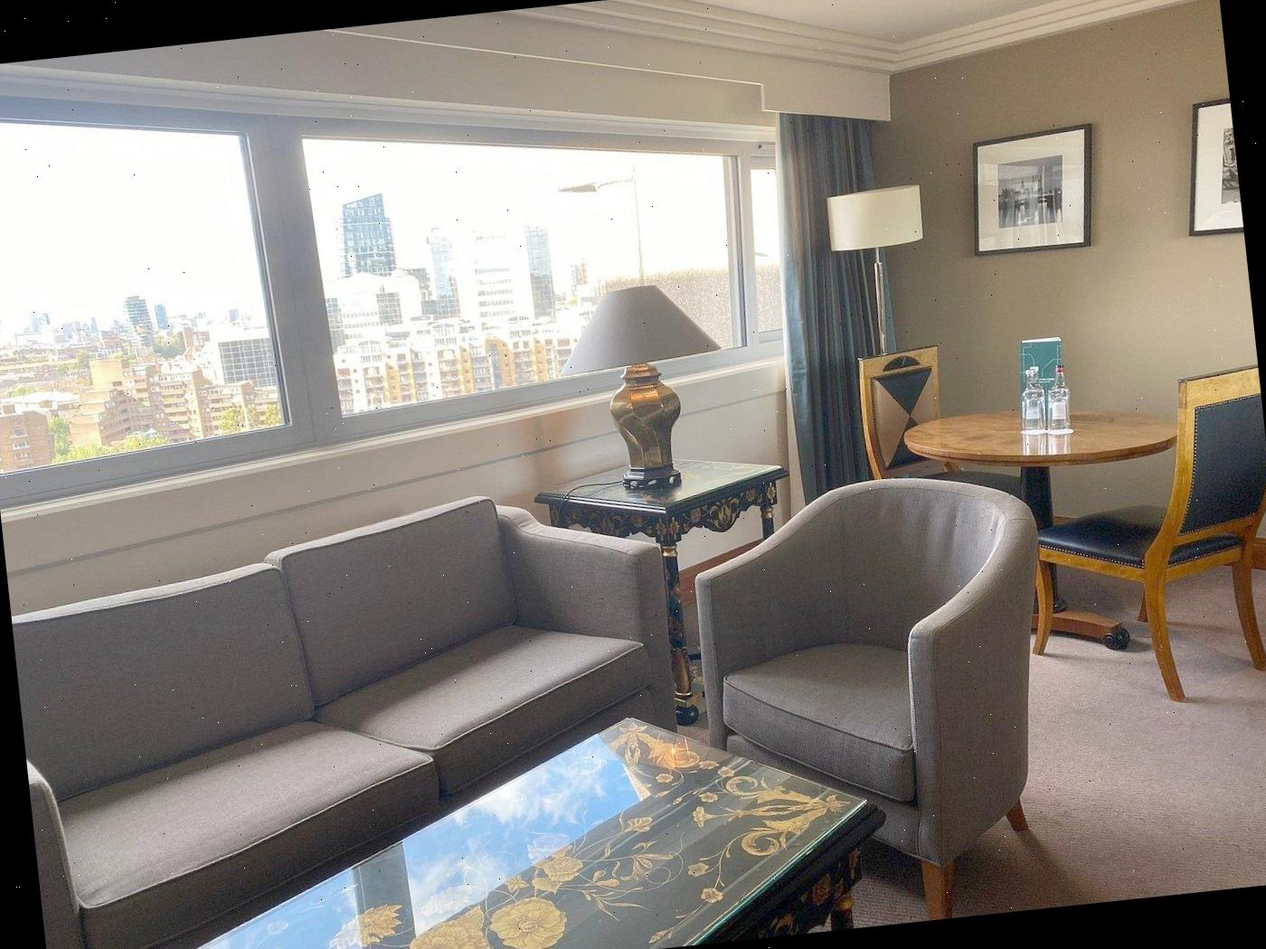chair: (703, 477, 1032, 917), (1034, 357, 1266, 696), (863, 349, 1018, 496)
clean_floor: (857, 658, 1266, 919)
lamp: (554, 287, 694, 494), (828, 186, 931, 364)
organized table: (199, 719, 886, 949)
